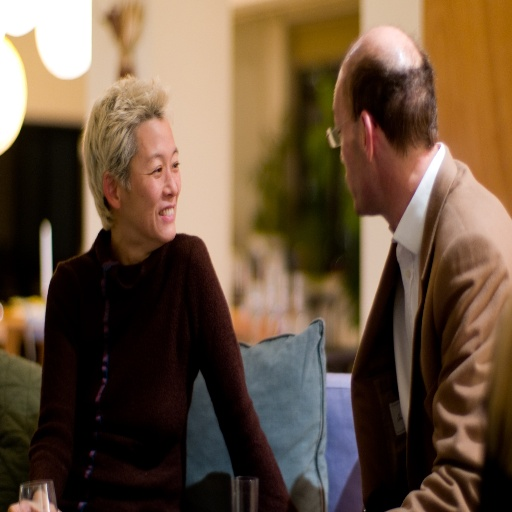hand: (5, 493, 57, 511)
